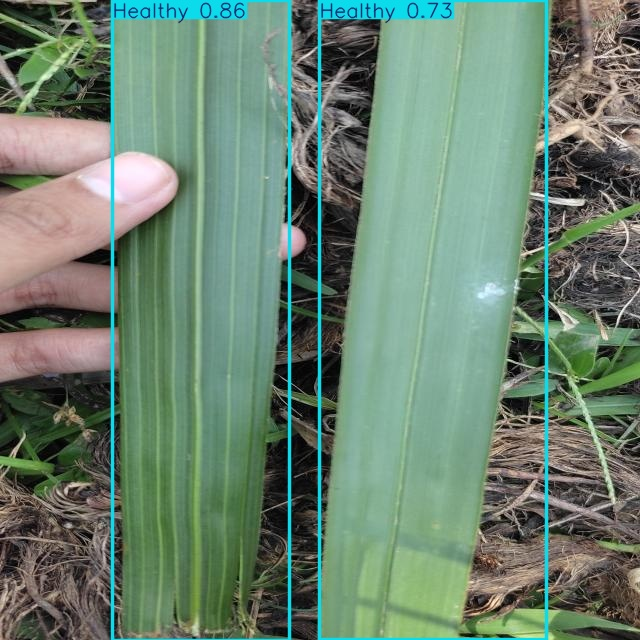Healthy: (319, 0, 547, 640), (113, 0, 290, 640)
